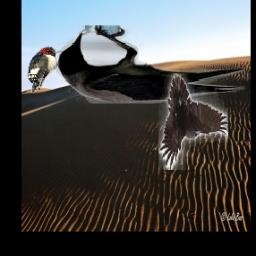Crow: (57, 25, 246, 104), (158, 74, 228, 171)
Woodpecker: (27, 46, 63, 93)
